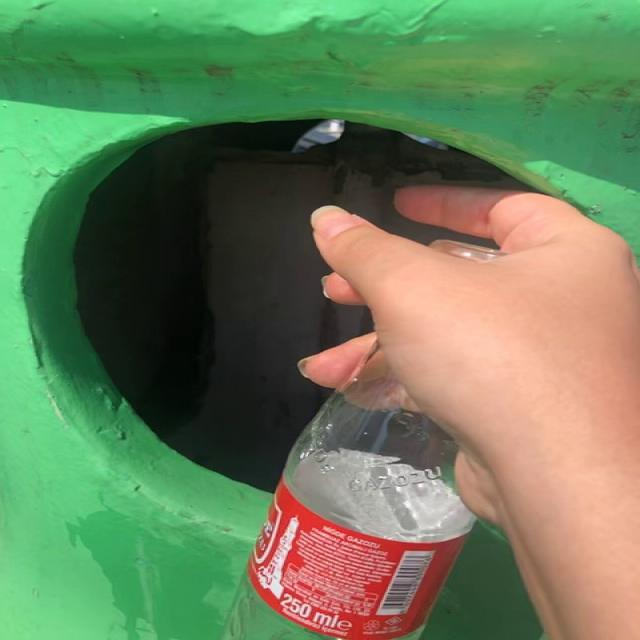glass: (225, 354, 476, 640)
